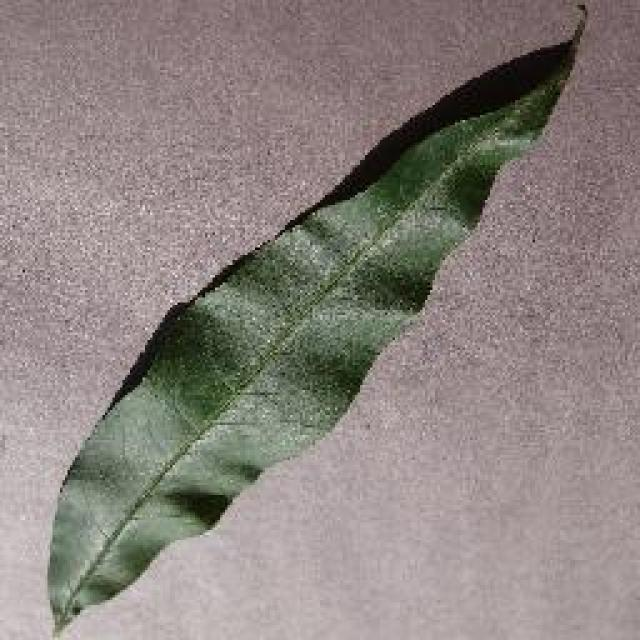Pea_healthy: (74, 120, 541, 539)
